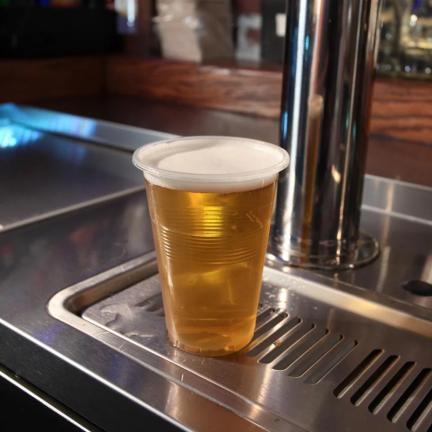container: (133, 136, 288, 355)
fluid: (147, 165, 285, 352)
fluid-surface: (141, 139, 285, 173)
